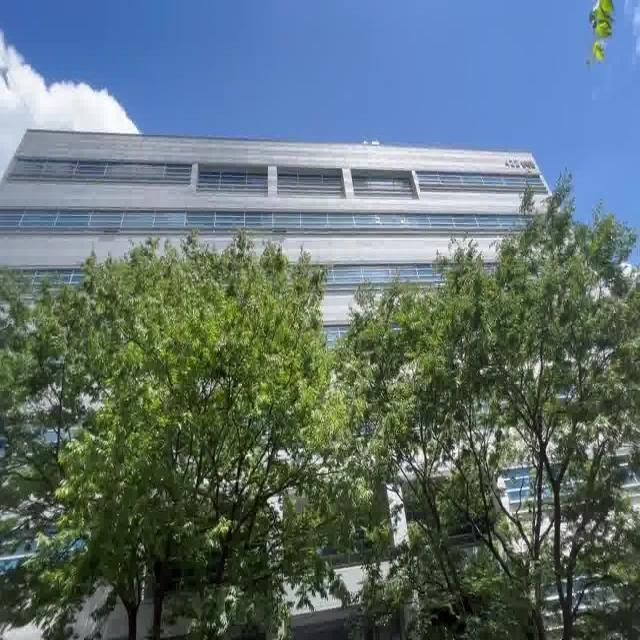building: (12, 122, 556, 252)
